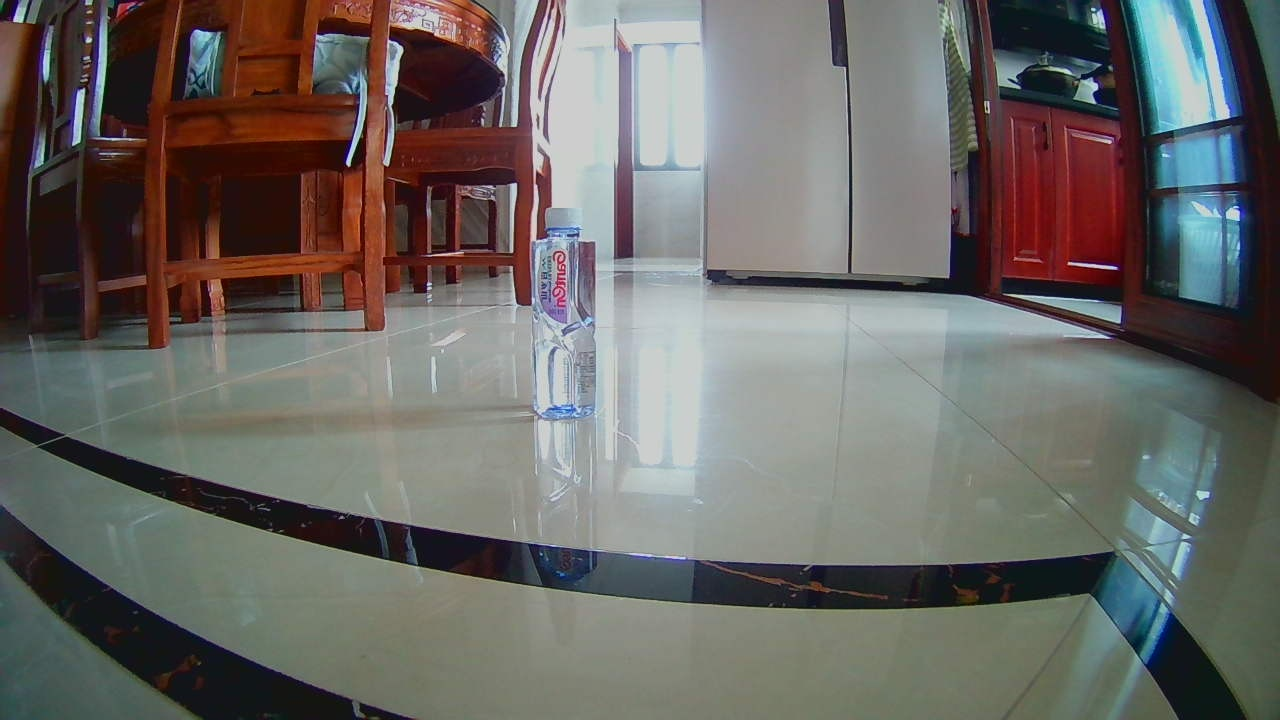water: (533, 205, 595, 421)
